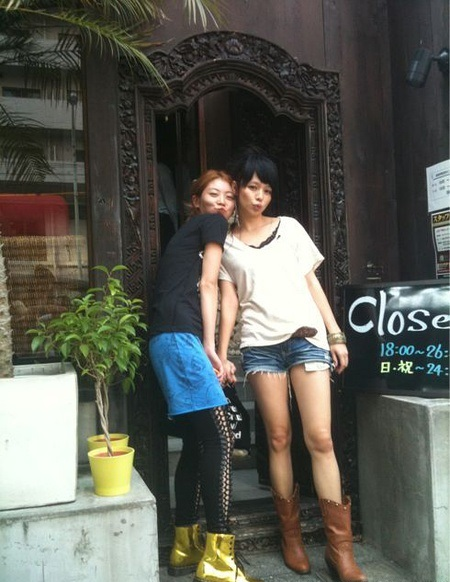face: (200, 179, 233, 218)
face_mask: (239, 172, 272, 215)
